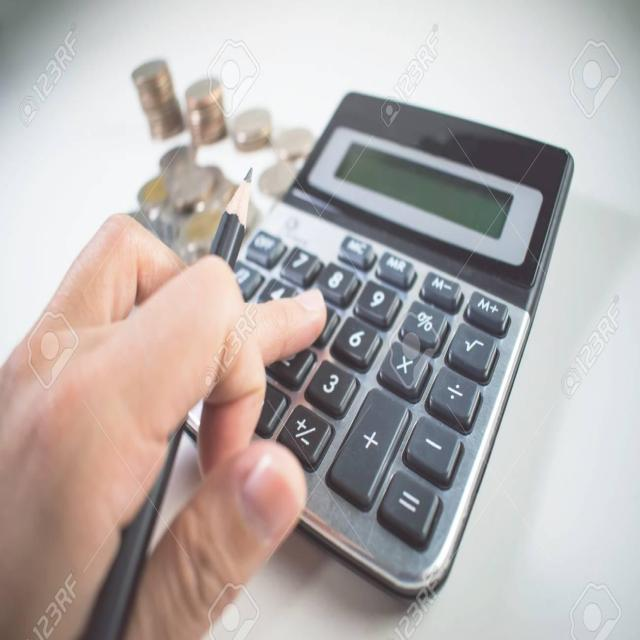Calculator: (302, 63, 600, 610)
